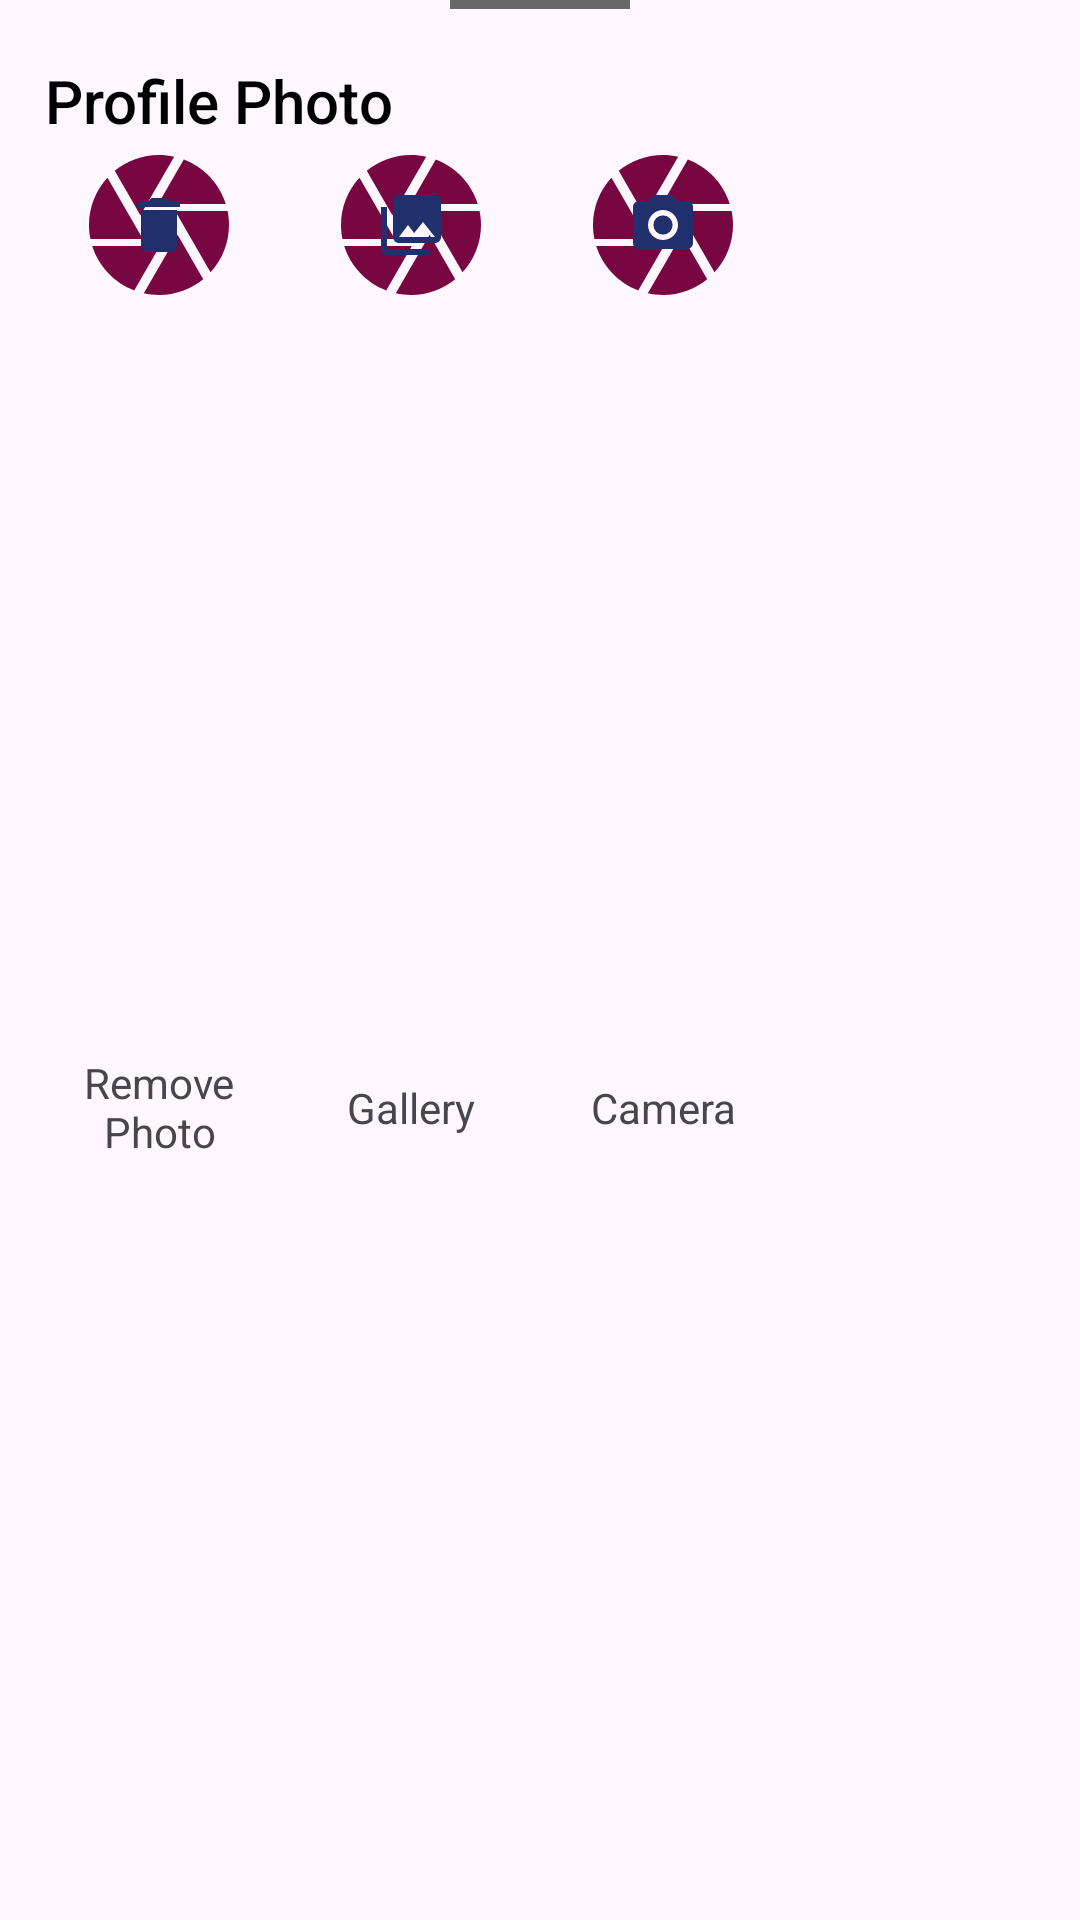

Point at icon controls on the screen. Image size 1080×1920, points as (x,y).
delete: (159,225)
photo camera: (663,225)
photo library: (411,225)
